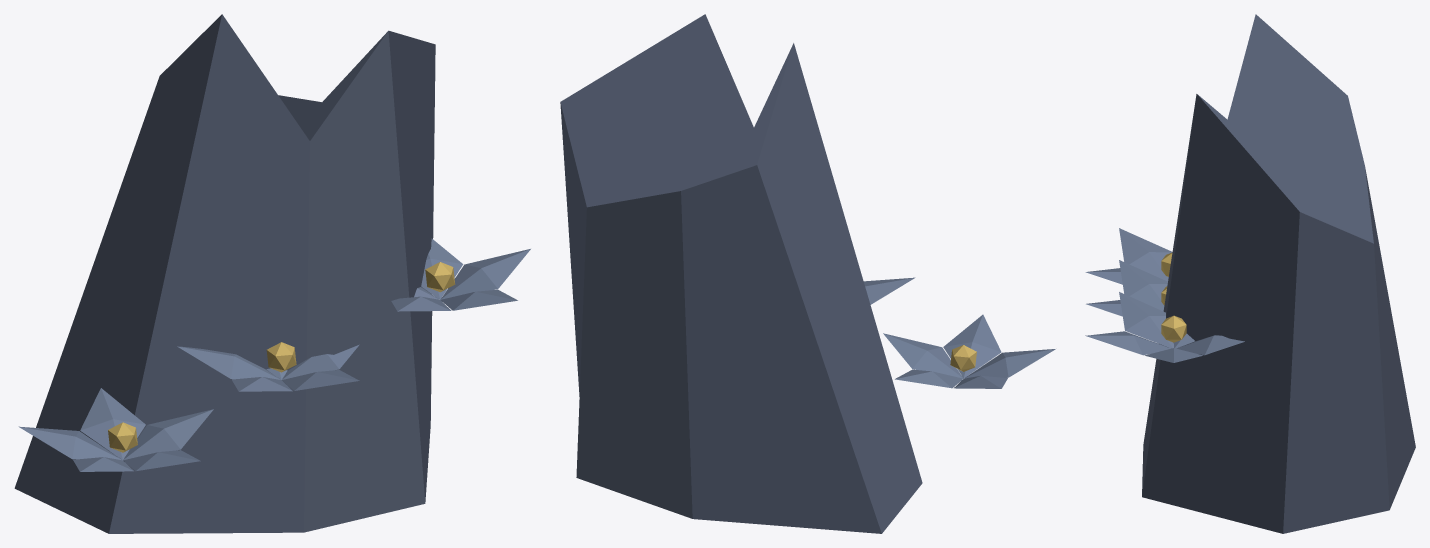
File: map-boundaries-v5__grave_04.glb
The picture shows the model from 3 angles, left to right: view 1: azimuth 30°, elevation 25°; view 2: azimuth 150°, elevation 25°; view 3: azimuth 270°, elevation 25°; orthographic projection. The views are drawn at different scales.
Parts seen in each view (by area): view 1: grave_04; view 2: grave_04; view 3: grave_04.
Part boxes in pixels (x1,y1,x2,y2): grave_04: (14, 14, 530, 533); grave_04: (560, 14, 1055, 533); grave_04: (1085, 14, 1415, 533).
Bounding box in the file's own units: 1.22 × 1.15 × 0.8144.
